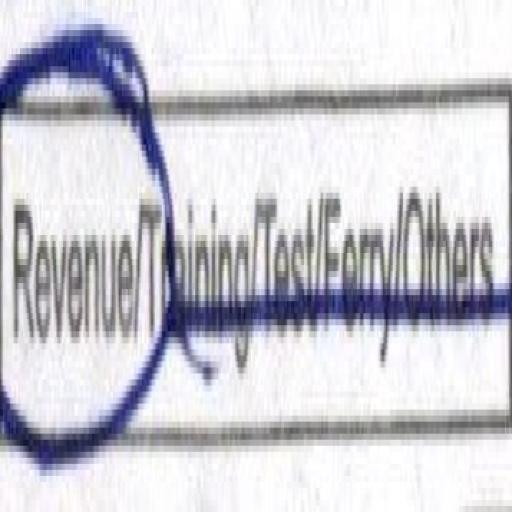check: (0, 3, 145, 482)
